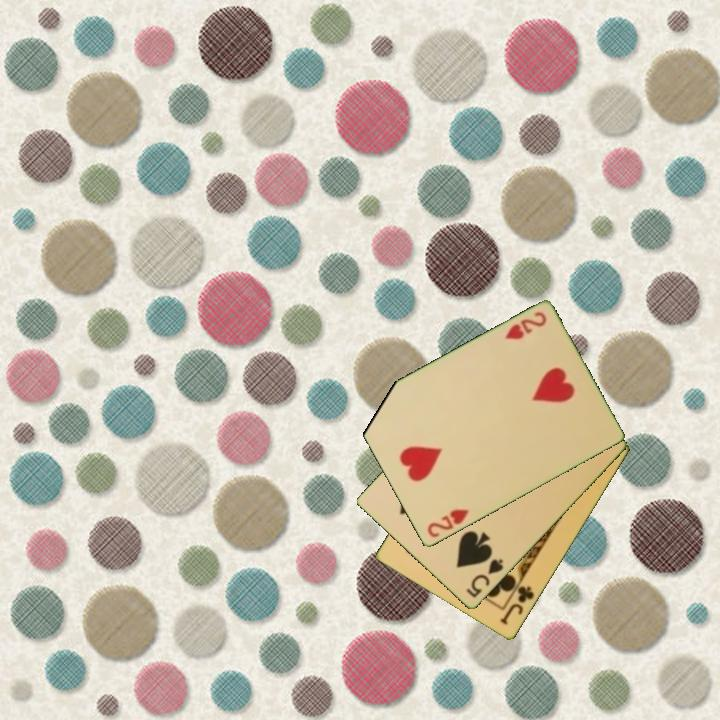2h: (423, 506, 472, 541), (501, 308, 549, 343)
5s: (463, 555, 506, 601)
Jc: (496, 582, 537, 628)
